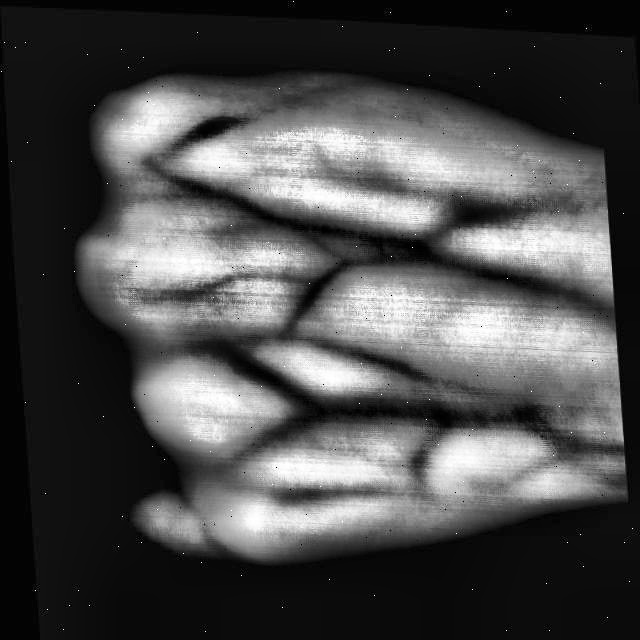Vein: (328, 383, 535, 438)
